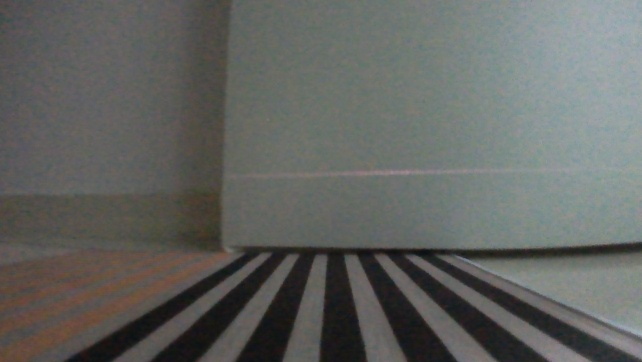blanket: (1, 231, 641, 361)
